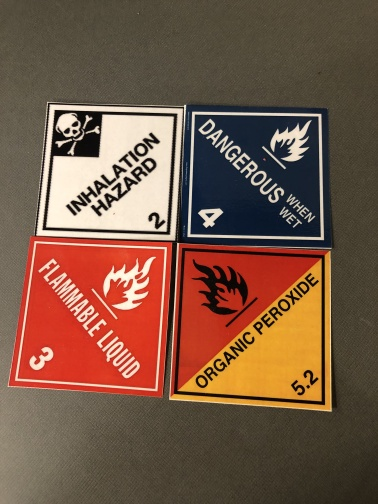DangerousWhenWet: (185, 104, 337, 248)
FlammableLiquid: (7, 235, 174, 398)
InhalationHazard: (34, 100, 181, 241)
OrganicPeroxide: (169, 240, 334, 413)
